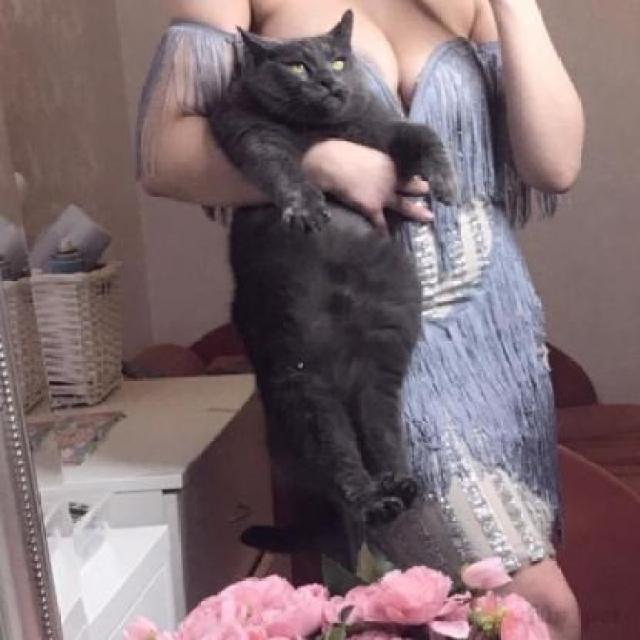cat: (211, 29, 471, 552)
